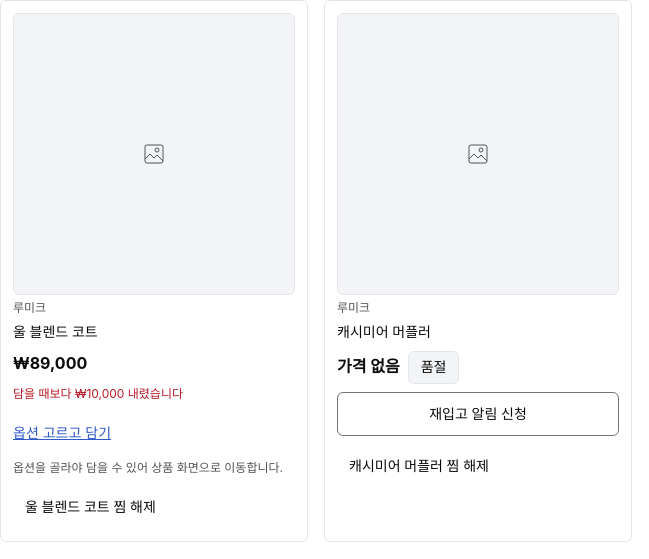
F3 · F4 · F5 위시리스트 화면 › takes the row out when the toggle answers 「해제됨」
Click the button "울 블렌드 코트 찜 해제" at (90, 507), box left=13, top=485, right=168, bottom=529
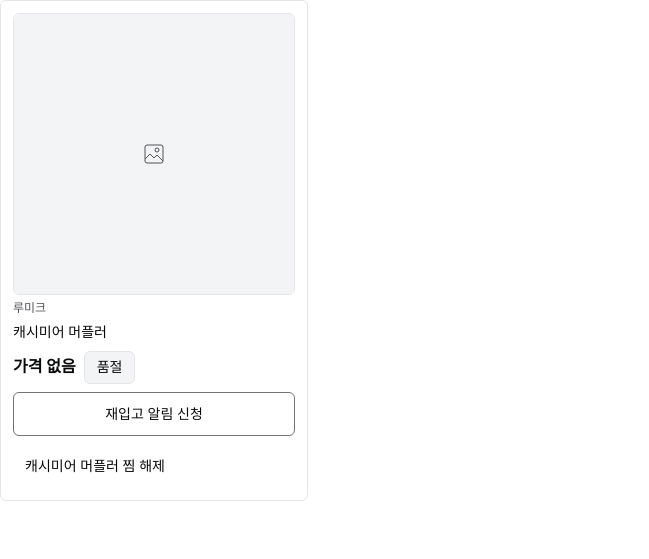
Now the number of list items is 1, box left=0, top=0, right=308, bottom=501
